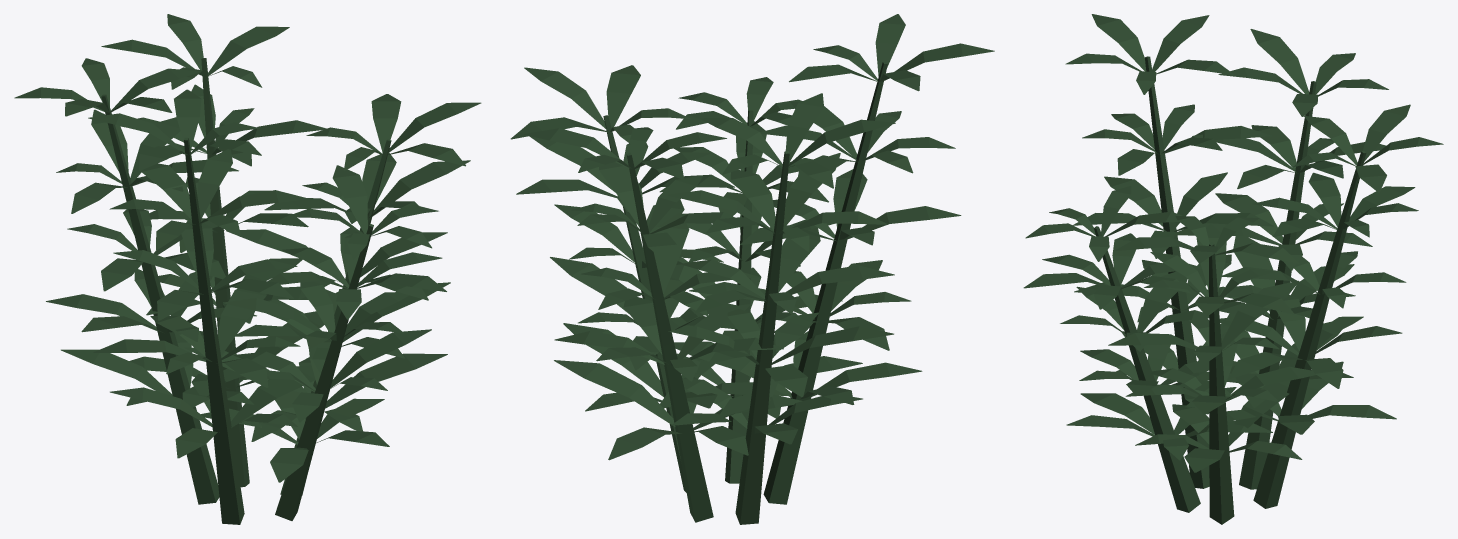
The model's file is plant_012a_coontail.glb.
3 views of the same model, side by side, from view 1: azimuth 30°, elevation 25°; view 2: azimuth 150°, elevation 25°; view 3: azimuth 270°, elevation 25° (orthographic). The views are drawn at different scales.
Visible parts, largest first — view 1: plant_012a_coontail__chunky_whorls, plant_012a_coontail__stems; view 2: plant_012a_coontail__chunky_whorls, plant_012a_coontail__stems; view 3: plant_012a_coontail__chunky_whorls, plant_012a_coontail__stems.
Boxes of the visible parts, x1=… form: plant_012a_coontail__chunky_whorls: x1=14, y1=14, x2=481, y2=482; plant_012a_coontail__stems: x1=101, y1=58, x2=391, y2=524; plant_012a_coontail__chunky_whorls: x1=510, y1=14, x2=994, y2=460; plant_012a_coontail__stems: x1=603, y1=62, x2=887, y2=524; plant_012a_coontail__chunky_whorls: x1=1023, y1=14, x2=1443, y2=472; plant_012a_coontail__stems: x1=1094, y1=56, x2=1366, y2=524.
Bounding box in the file's own units: 0.8007 × 0.8373 × 0.7793.
